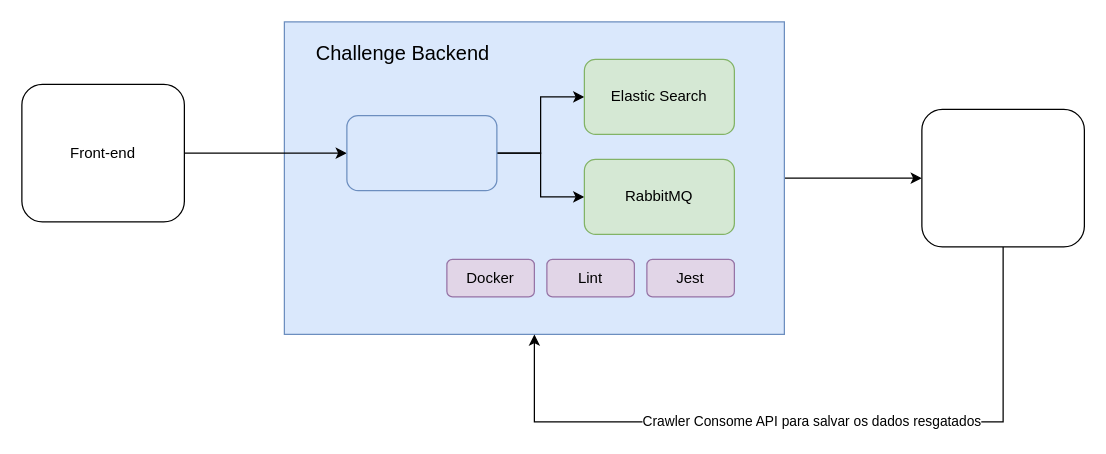
Image size: 1106x454. Some labels were removed from this diagram. Each missing label, with the box of its shape:
Crawler: (921, 108, 1084, 247)
express.js: (346, 114, 497, 191)
